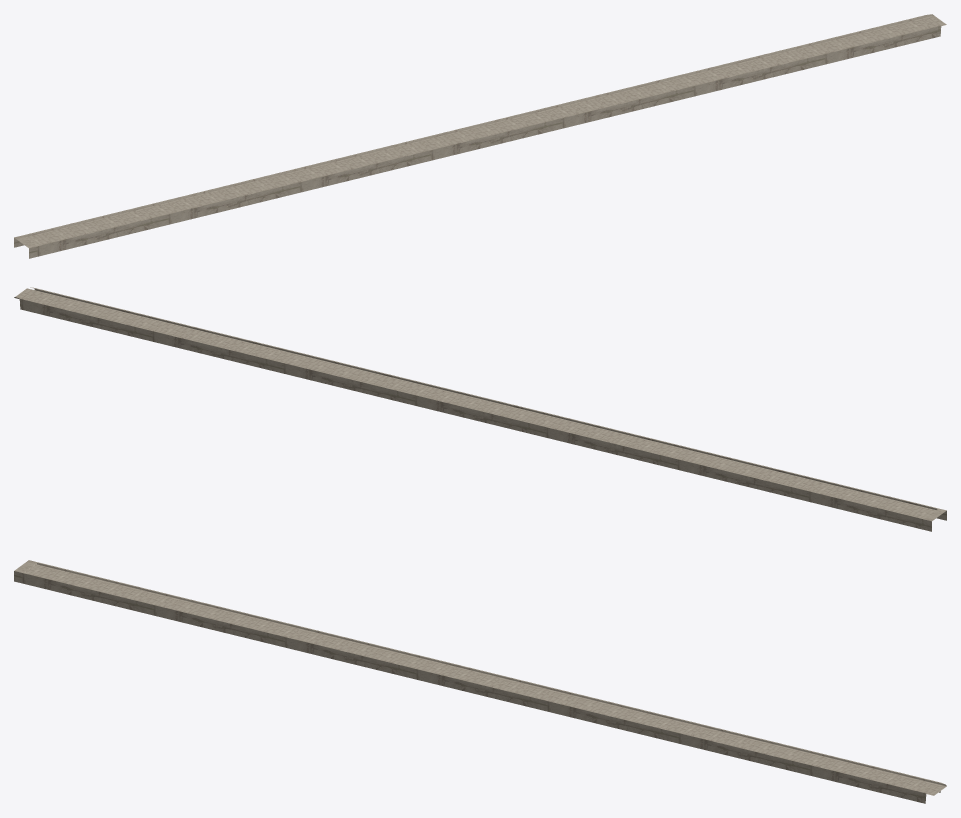
Rendered from MDL_Environment_TownExterior01_Xiaolu01_DFE1.fbx.
The picture shows the model from 3 angles, top to bottom: view 1: azimuth 30°, elevation 25°; view 2: azimuth 150°, elevation 25°; view 3: azimuth 330°, elevation 25°; orthographic projection.
Parts seen in each view (by area): view 1: Object003; view 2: Object003; view 3: Object003.
Part boxes in pixels (box(x1,y1,x2,y2)): Object003: box(14, 14, 946, 258); Object003: box(14, 287, 946, 531); Object003: box(14, 560, 946, 803).
Size of the model in its own units: 450 by 4.89 by 12.79.
